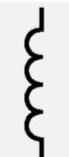inductor: (18, 19, 55, 147)
